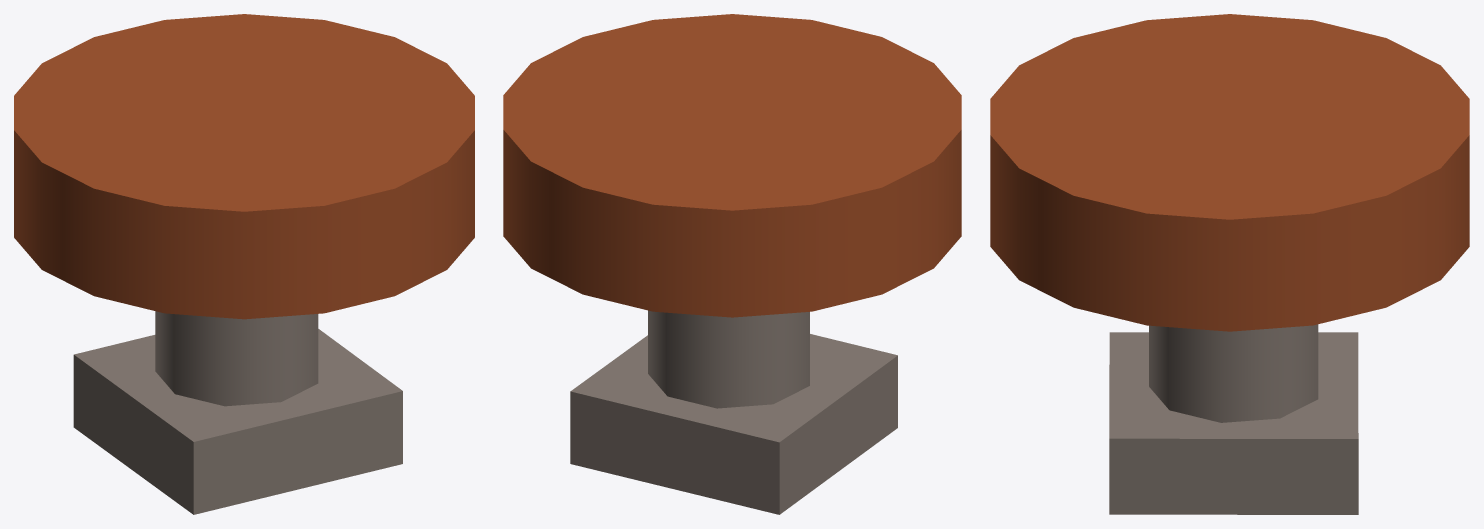
The model's file is chair_11.fbx.
3 renders of one model, left to right at view 1: azimuth 30°, elevation 25°; view 2: azimuth 150°, elevation 25°; view 3: azimuth 270°, elevation 25°, orthographic. The views are drawn at different scales.
Parts seen in each view (by area): view 1: chair_11; view 2: chair_11; view 3: chair_11.
Boxes of the visible parts, left/top/right/bottom form: chair_11: left=14, top=14, right=474, bottom=514; chair_11: left=503, top=14, right=961, bottom=514; chair_11: left=990, top=14, right=1469, bottom=514.
Bounding box in the file's own units: 49.35 × 38.77 × 48.6.
